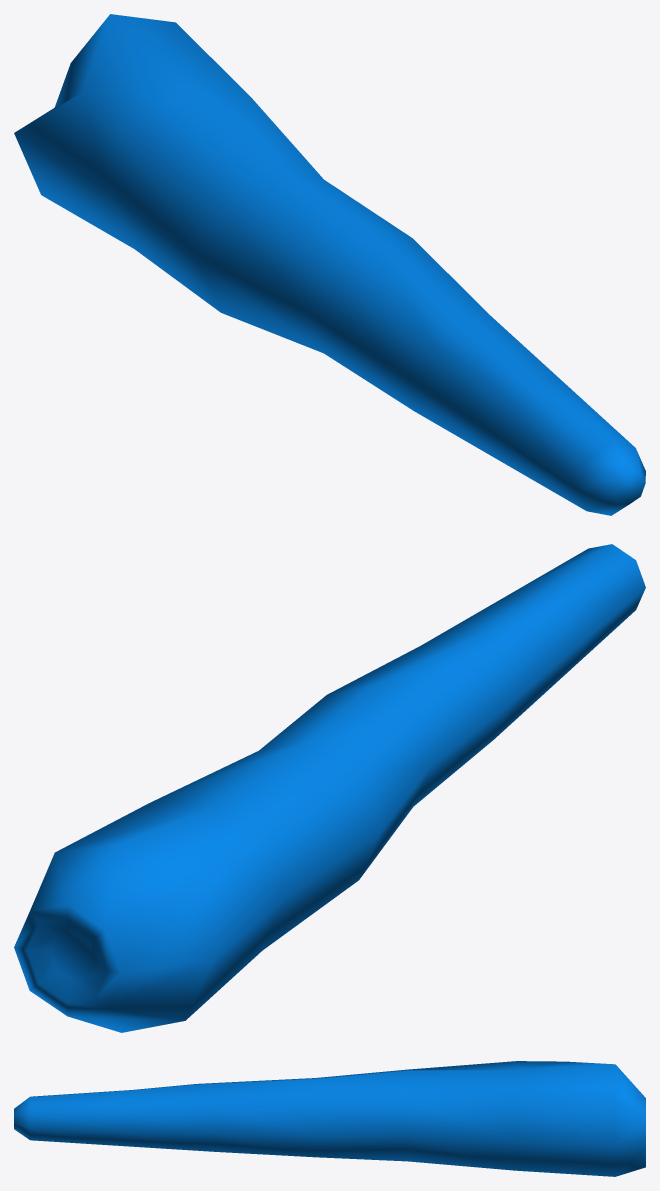
The model's file is Mesh_carrot.fbx.
3 renders of one model, top to bottom at view 1: azimuth 30°, elevation 25°; view 2: azimuth 150°, elevation 25°; view 3: azimuth 270°, elevation 25°, orthographic. The views are drawn at different scales.
Visible parts, largest first — view 1: carrot; view 2: carrot; view 3: carrot.
Part boxes in pixels (bbox=[...]): carrot: bbox=[14, 14, 645, 515]; carrot: bbox=[14, 544, 645, 1032]; carrot: bbox=[14, 1061, 645, 1176].
Size of the model in its own units: 13.03 by 12.9 by 66.21.
